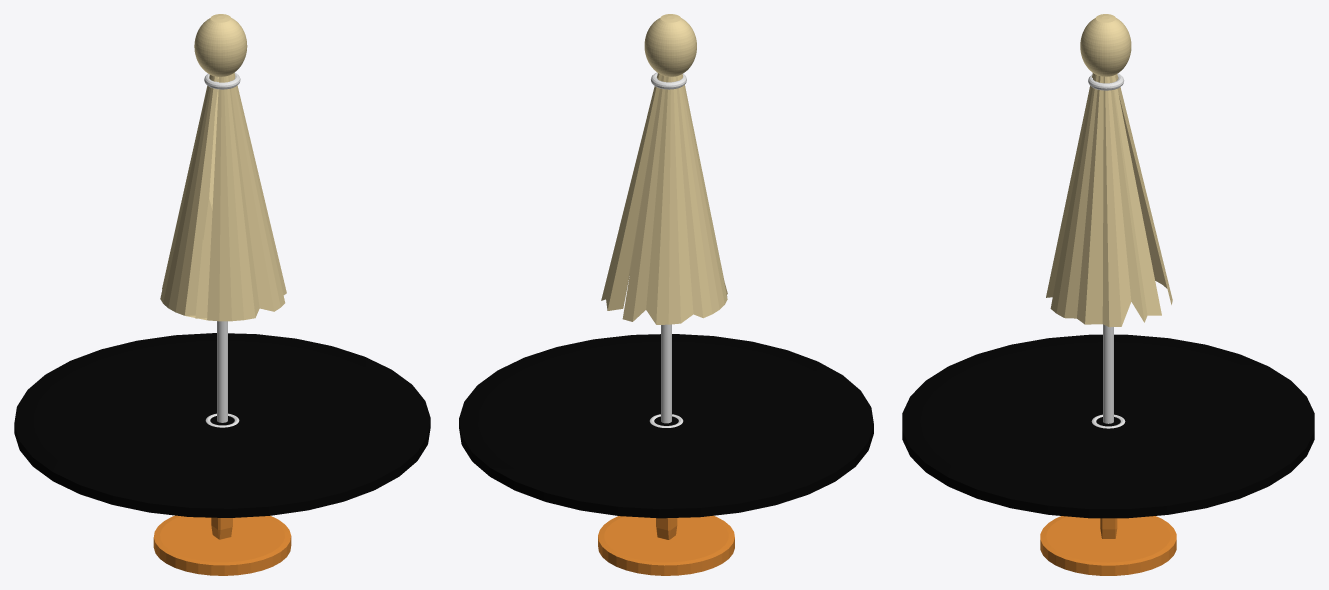
Rendered from table3.fbx.
3 views of the same model, side by side, from view 1: azimuth 30°, elevation 25°; view 2: azimuth 150°, elevation 25°; view 3: azimuth 270°, elevation 25° (orthographic).
Parts seen in each view (by area): view 1: Cone; view 2: Cone; view 3: Cone.
Boxes of the visible parts, x1,y1,x2,y2 form: Cone: (14, 14, 430, 575); Cone: (459, 14, 873, 575); Cone: (902, 14, 1314, 575).
Size of the model in its own units: 2854 by 4036 by 2854.
